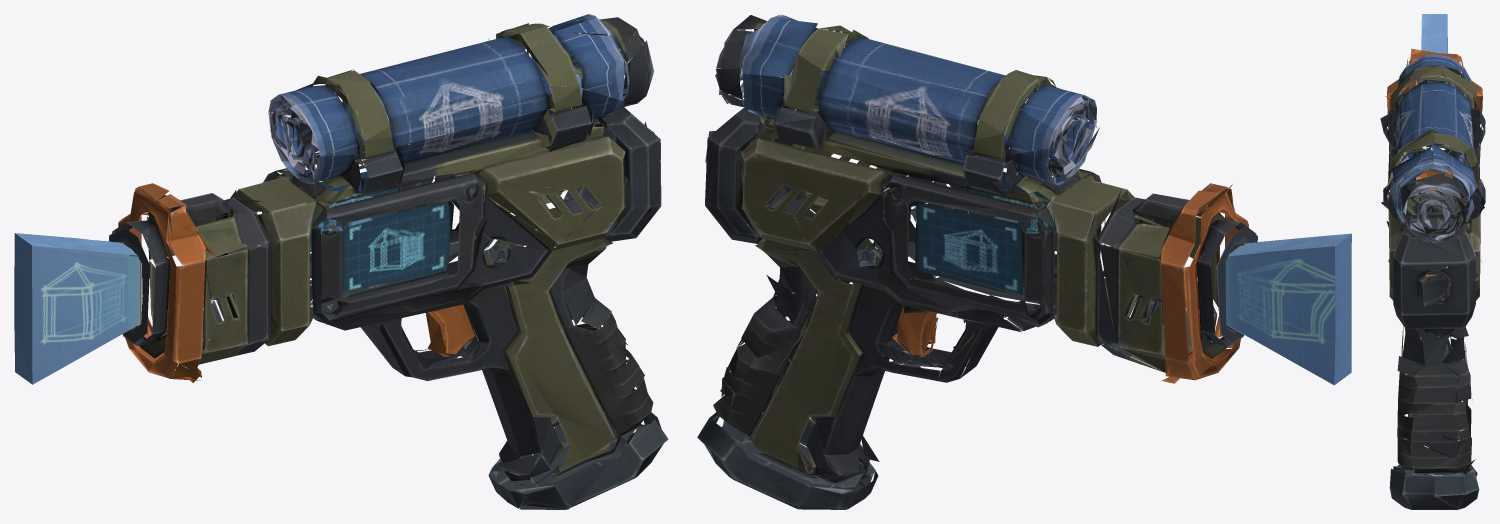
File: build_tool_lod1.glb
3 renders of one model, left to right at view 1: azimuth 30°, elevation 25°; view 2: azimuth 150°, elevation 25°; view 3: azimuth 270°, elevation 25°, orthographic. The views are drawn at different scales.
Parts seen in each view (by area): view 1: LOD1; view 2: LOD1; view 3: LOD1.
Part boxes in pixels (left/top/right/bottom): LOD1: left=14, top=14, right=668, bottom=509; LOD1: left=697, top=14, right=1351, bottom=509; LOD1: left=1380, top=14, right=1485, bottom=509.
Bounding box in the file's own units: 0.3799 × 0.2731 × 0.0733.
1 material, 1 textured.
